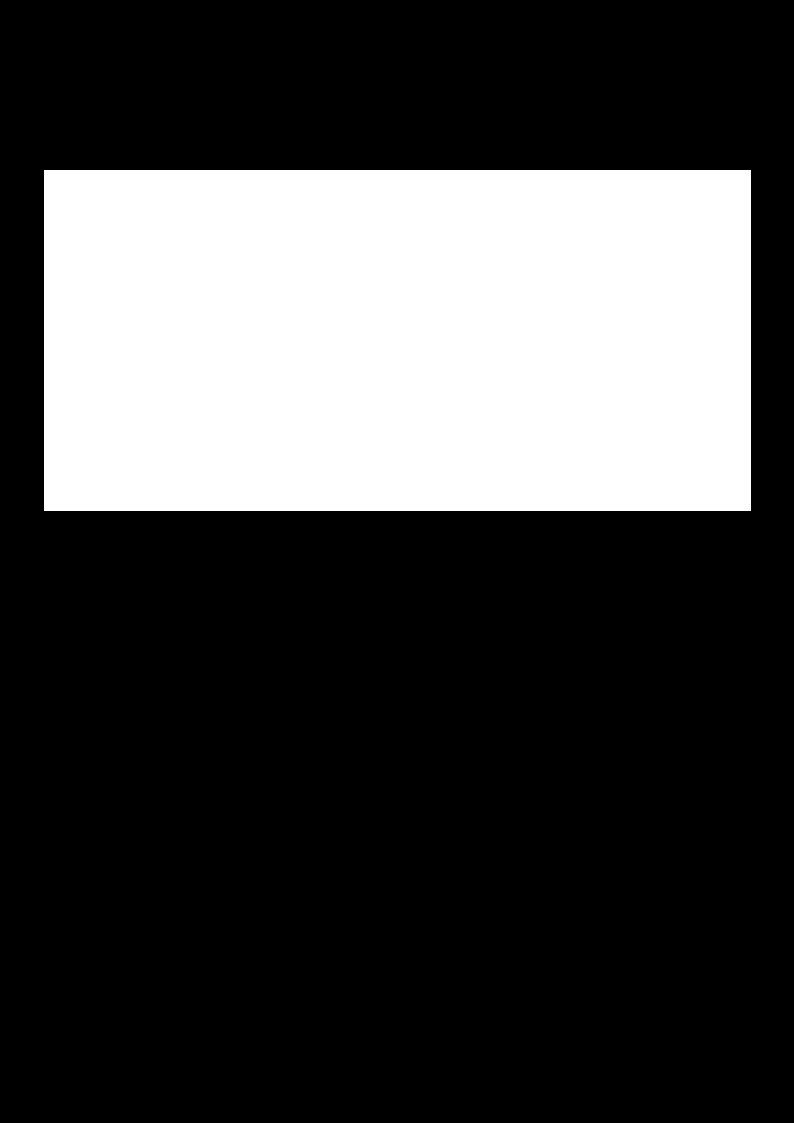table: (44, 170, 750, 510)
